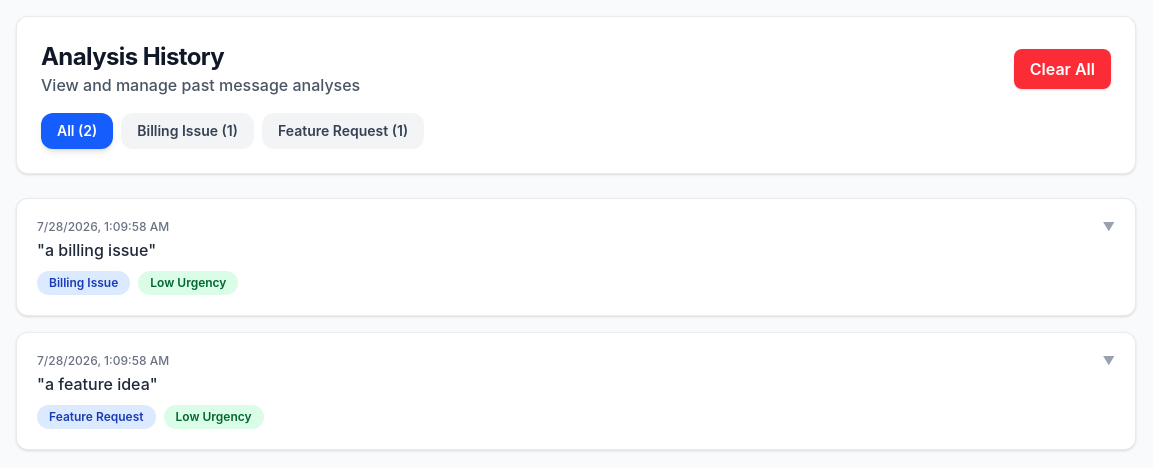
Test case: HistoryPage › filters by category when a filter chip is clicked
Click the button "Feature Request (1)" at (343, 131), box [262,113,424,149]
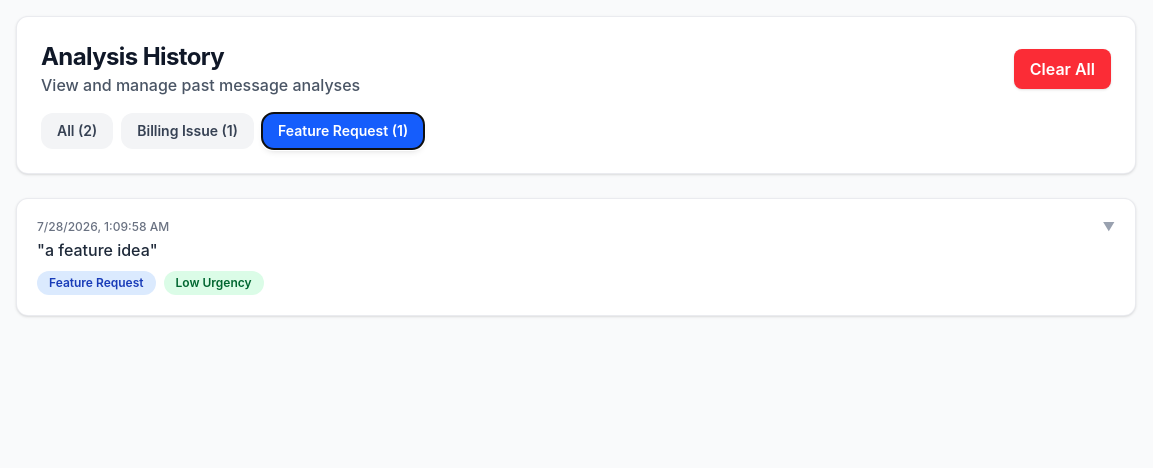
expect the text "\"a feature idea\"" is shown: met, box [37,240,158,260]
expect the button "a billing issue" is gone: met
